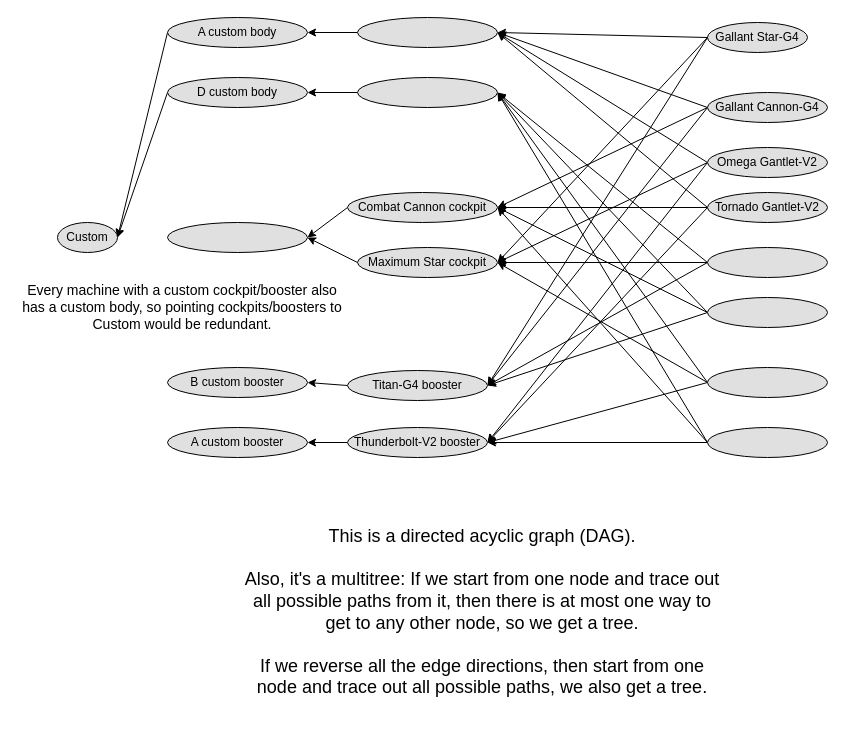
The diagram is 845 pixels wide and 735 high, and some of its shapes have lost their labels. Each missing label, with the centre of its shape:
A custom cockpit: the point at 237,237
Brave Eagle body: the point at 427,92
Dread Hammer body: the point at 427,32
Omega Condor-V2: the point at 767,382
Strike Cannon-G4: the point at 767,312
Strike Star-G4: the point at 767,262
Tornado Condor-V2: the point at 767,442
